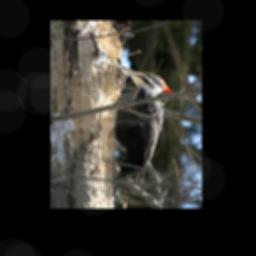Woodpecker: (113, 65, 174, 201)
